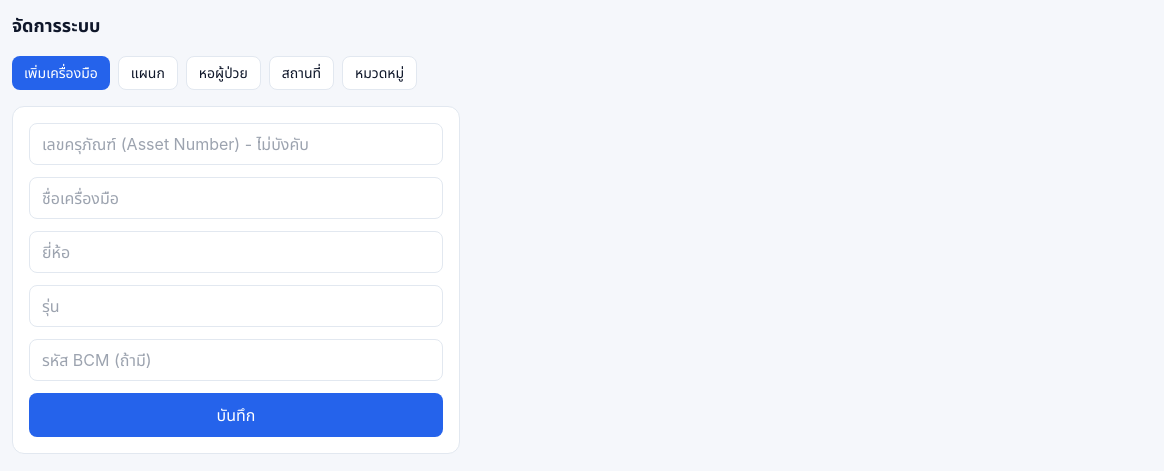
Test: Admin ward/department phone UI (Roadmap PR25E S0) › hides edit controls and the import tab from non-administrators
Click the button "หอผู้ป่วย": [223, 73] box [186,56,261,90]
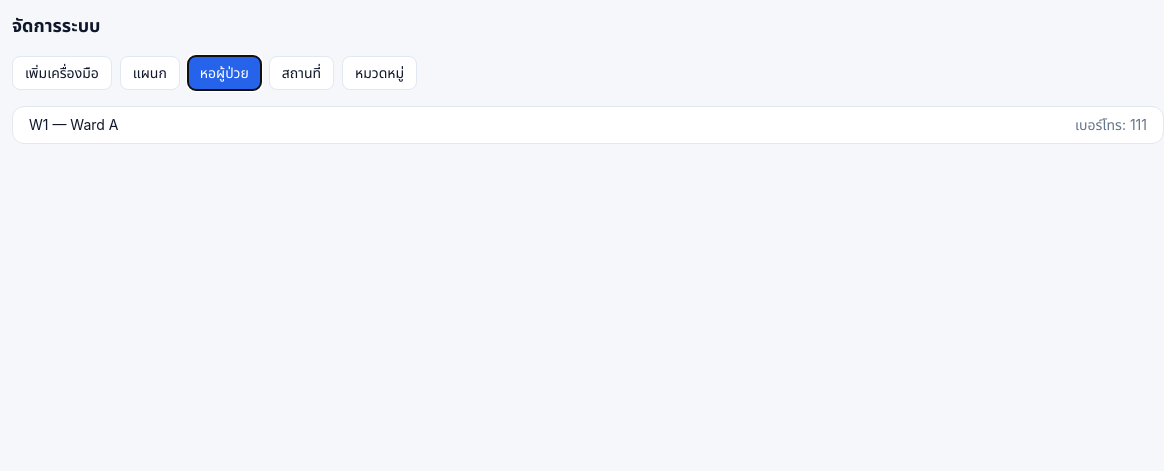
Result: the text "เบอร์โทร: 111" is shown at [1075,115,1147,135]
